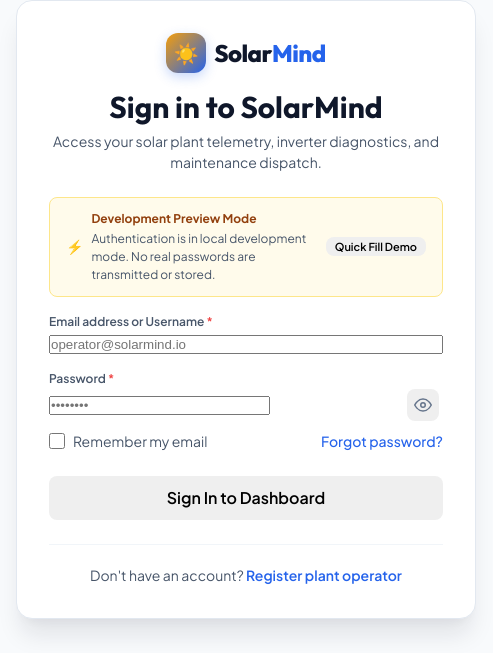
it: SolarMind Authentication System Suite › LoginPage Component › populates fields when clicking Quick Fill Demo
The width and height of the screenshot is (493, 653).
Click the button "Quick Fill Demo" at (376, 246), box x1=326 y1=237 x2=426 y2=256
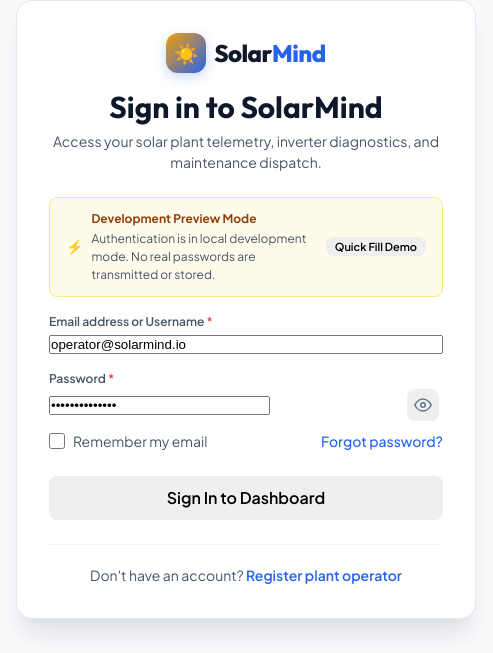
Expected: the field labelled "Email address or Username *" holds "operator@solarmind.io", x1=49 y1=334 x2=443 y2=354
Expected: the password field labelled "Password *" holds "SolarMind2026!", x1=49 y1=396 x2=270 y2=414
